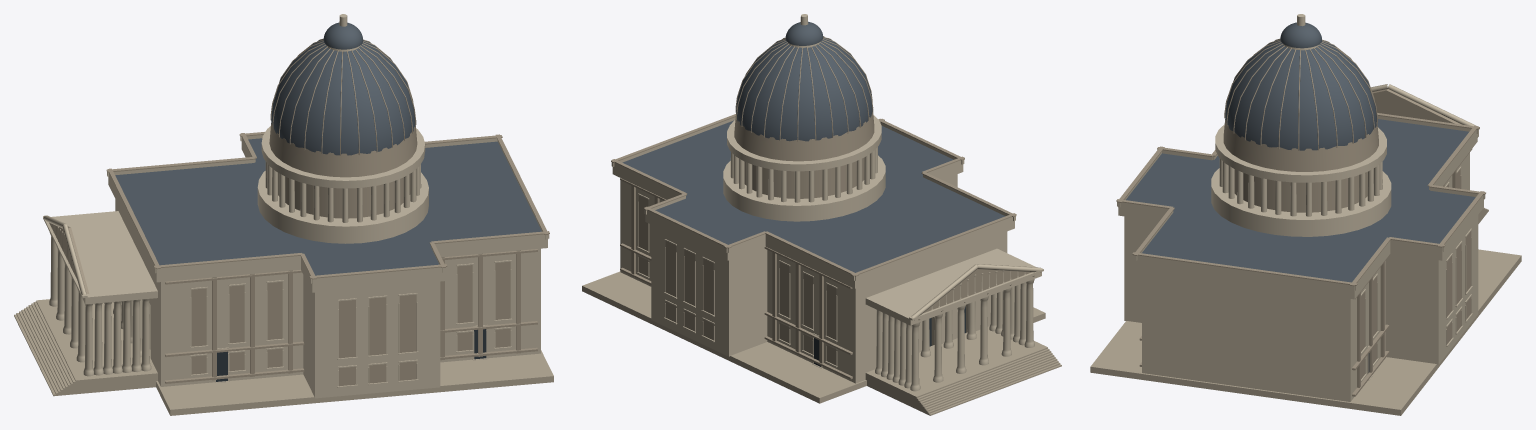
Rendered from paris-pantheon-near.glb.
The picture shows the model from 3 angles, left to right: view 1: azimuth 30°, elevation 25°; view 2: azimuth 150°, elevation 25°; view 3: azimuth 270°, elevation 25°; orthographic projection. The views are drawn at different scales.
Parts seen in each view (by area): view 1: paris-pantheon-0-stone, paris-pantheon-0-roof, paris-pantheon-0-shade, paris-pantheon-0-steps, paris-pantheon-0-glass; view 2: paris-pantheon-0-stone, paris-pantheon-0-roof, paris-pantheon-0-shade, paris-pantheon-0-steps; view 3: paris-pantheon-0-stone, paris-pantheon-0-roof, paris-pantheon-0-shade, paris-pantheon-0-steps.
Part boxes in pixels (<box>): paris-pantheon-0-stone: <box>43,14,549,398</box>; paris-pantheon-0-roof: <box>115,22,541,275</box>; paris-pantheon-0-shade: <box>49,38,549,386</box>; paris-pantheon-0-steps: <box>14,299,553,415</box>; paris-pantheon-0-glass: <box>216,329,486,381</box>; paris-pantheon-0-stone: <box>611,14,1043,391</box>; paris-pantheon-0-roof: <box>622,21,1004,272</box>; paris-pantheon-0-shade: <box>611,36,1034,379</box>; paris-pantheon-0-steps: <box>582,271,1061,415</box>; paris-pantheon-0-stone: <box>1117,14,1485,401</box>; paris-pantheon-0-roof: <box>1126,22,1475,282</box>; paris-pantheon-0-shade: <box>1116,38,1485,396</box>; paris-pantheon-0-steps: <box>1090,208,1521,415</box>.
Bounding box in the file's own units: 132 × 82 × 104.
